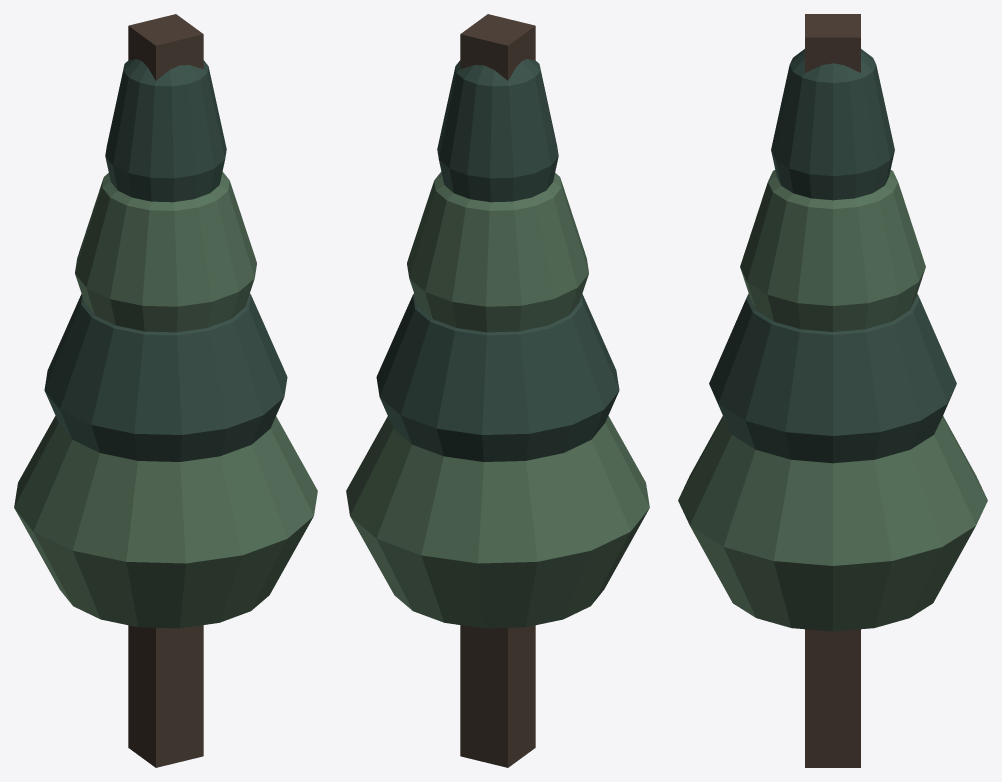
Rendered from horror_pine_tall.obj.
3 views of the same model, side by side, from view 1: azimuth 30°, elevation 25°; view 2: azimuth 150°, elevation 25°; view 3: azimuth 270°, elevation 25° (orthographic).
Visible parts, largest first — view 1: Crown0, Crown1, Crown2, Crown3, Trunk; view 2: Crown0, Crown1, Crown2, Crown3, Trunk; view 3: Crown0, Crown1, Crown2, Crown3, Trunk.
Boxes of the visible parts, x1,y1,x2,y2 form: Crown0: (14, 416, 317, 628); Crown1: (44, 293, 287, 461); Crown2: (75, 172, 256, 332); Crown3: (105, 59, 226, 202); Trunk: (128, 14, 203, 767); Crown0: (346, 416, 649, 628); Crown1: (376, 293, 619, 461); Crown2: (407, 172, 588, 332); Crown3: (437, 59, 558, 202); Trunk: (460, 14, 535, 767); Crown0: (678, 416, 987, 631); Crown1: (709, 293, 956, 463); Crown2: (740, 170, 925, 331); Crown3: (771, 49, 894, 200); Trunk: (805, 14, 860, 767).
Size of the model in its own units: 5 by 13 by 5.
